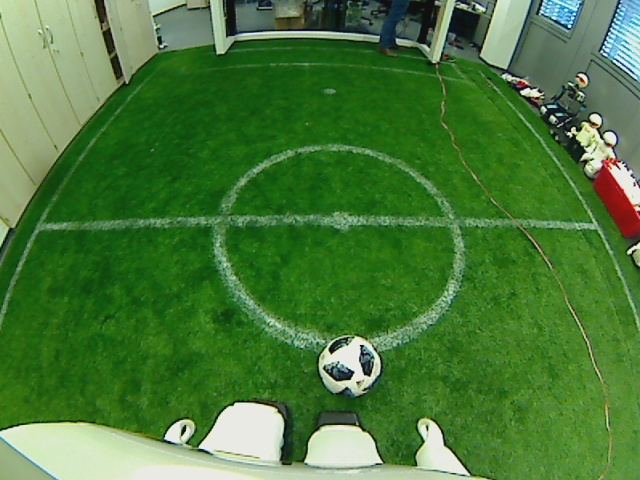ball: (316, 332, 382, 400)
